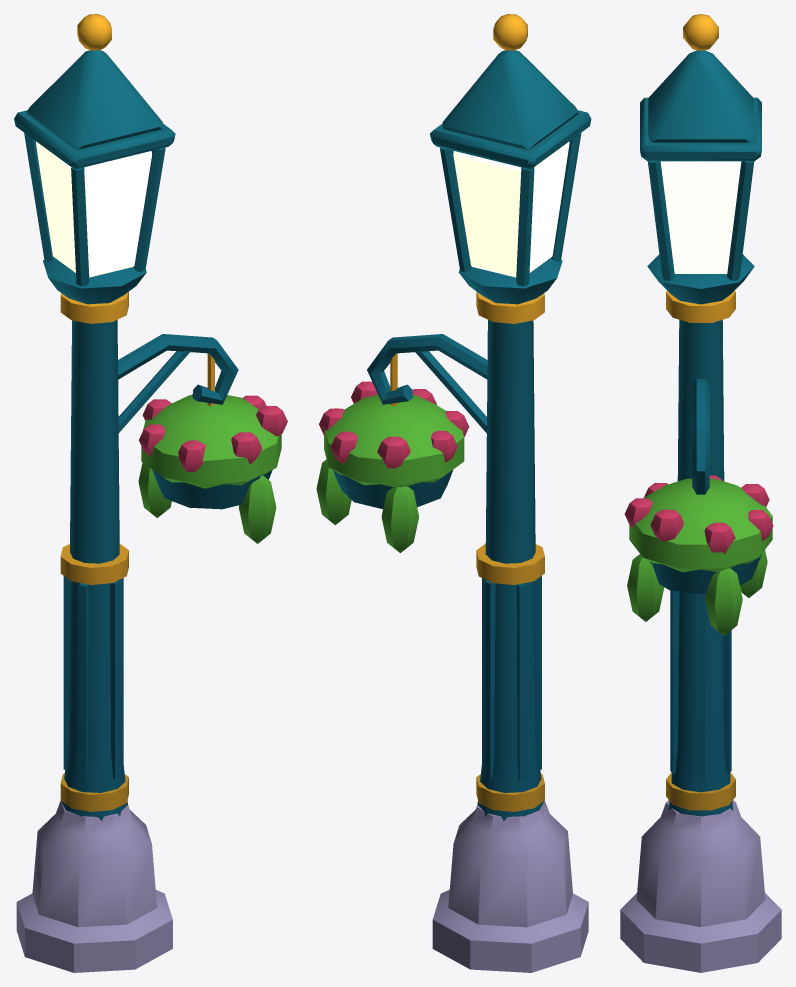
File: lamp_post.glb
3 renders of one model, left to right at view 1: azimuth 30°, elevation 25°; view 2: azimuth 150°, elevation 25°; view 3: azimuth 270°, elevation 25°, orthographic.
Parts seen in each view (by area): view 1: lamp_post; view 2: lamp_post; view 3: lamp_post.
Boxes of the visible parts, box(x1,y1,x2,y2) form: lamp_post: box(14, 14, 287, 972); lamp_post: box(316, 14, 591, 972); lamp_post: box(620, 14, 781, 972).
Size of the model in its own units: 1.07 by 3.79 by 0.6001.
